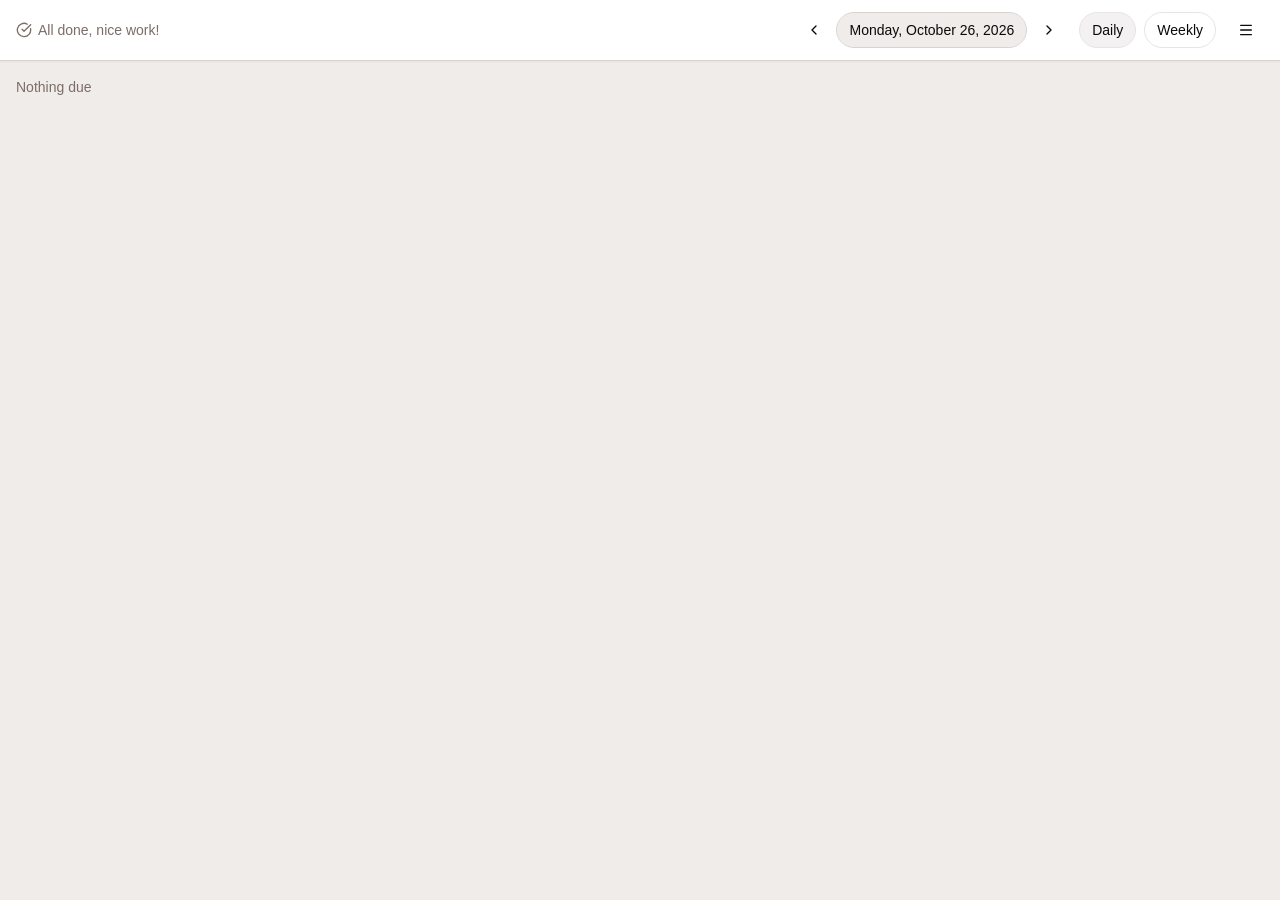
Test: the date picker › opens from the date button
Step 1. Click the button with aria-label "Choose a date" → (932, 30), box [836,12,1027,48]
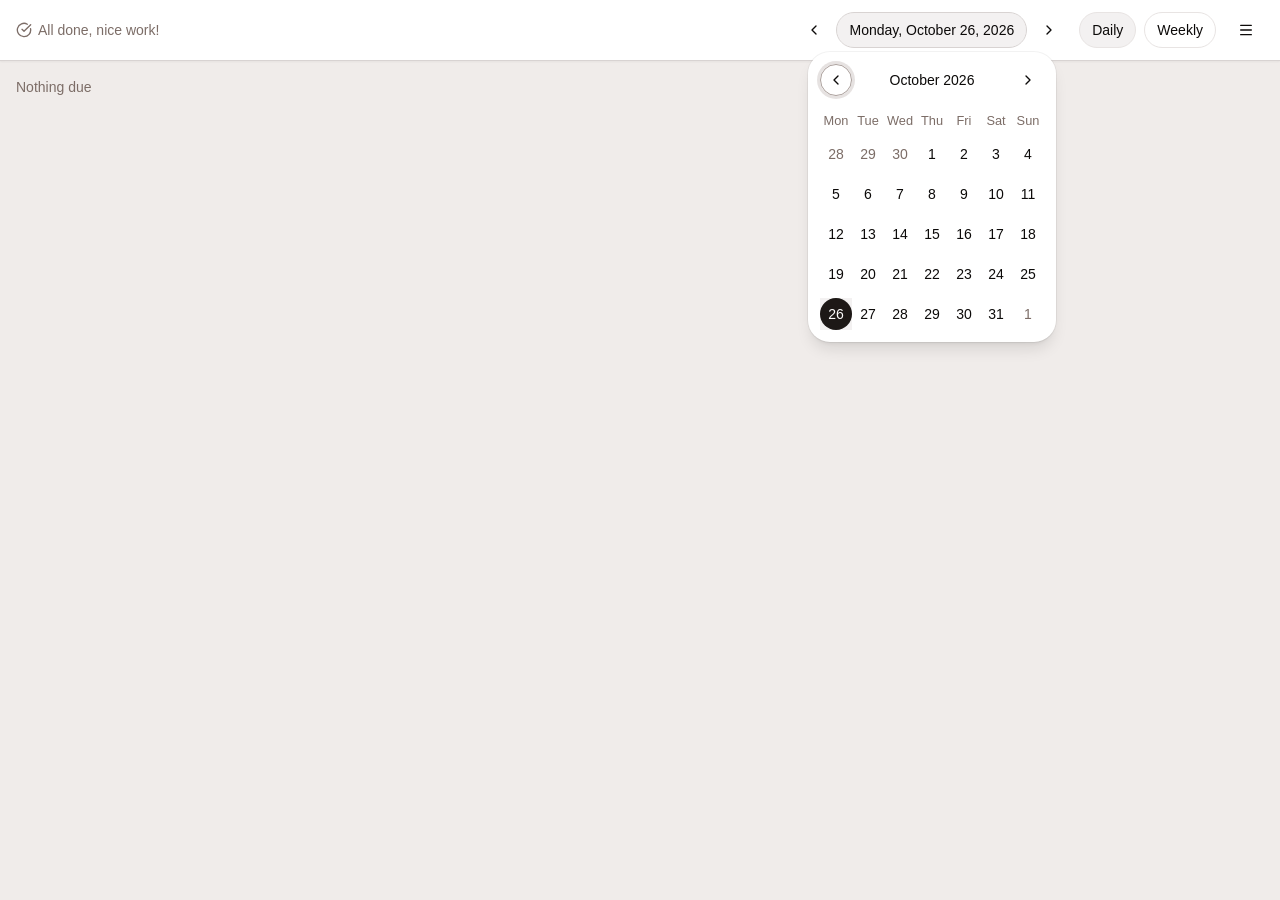
Now the dialog is shown, box [808,52,1056,342]
Now the table is shown, box [820,112,1044,330]
